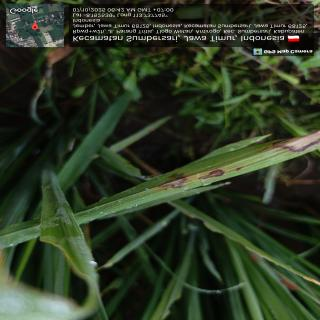Blast: (260, 129, 320, 153), (158, 171, 187, 188), (198, 168, 225, 182)
